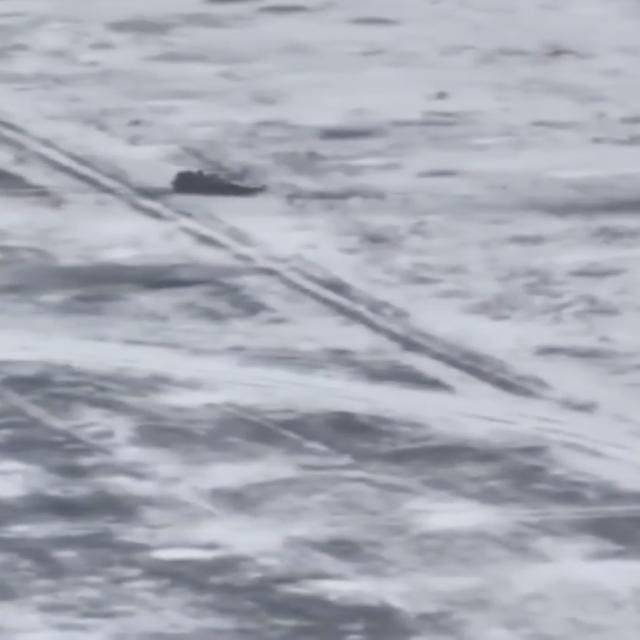vehicle: (172, 167, 270, 196)
